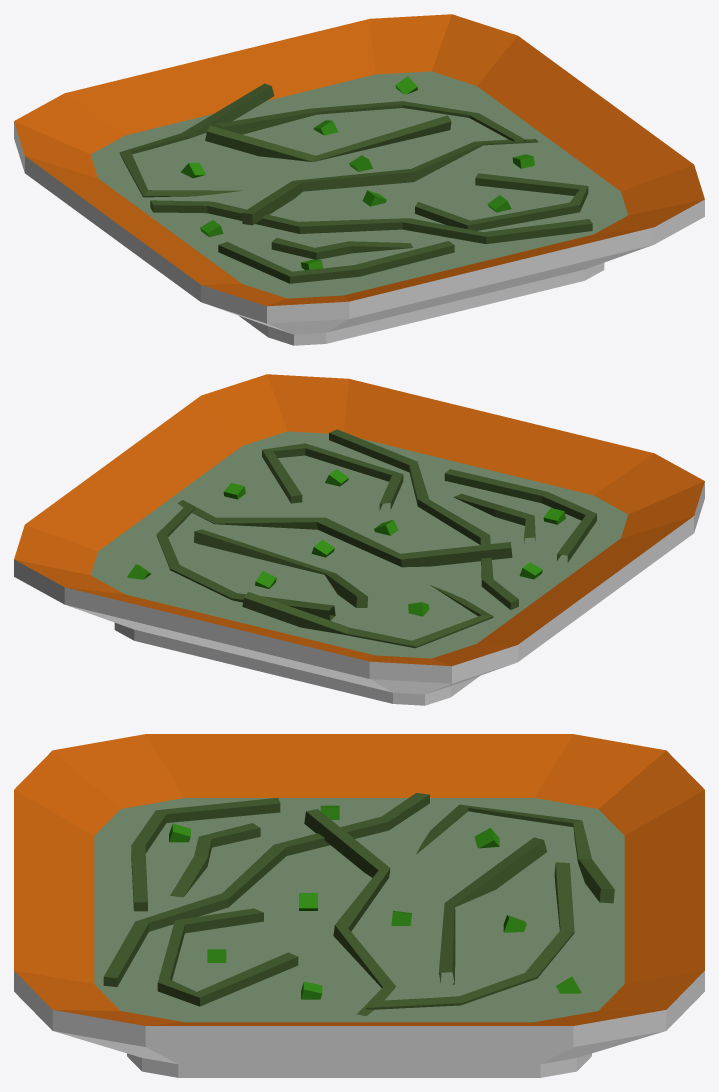
Rendered from R_Soup_2.fbx.
3 views of the same model, one above another, from view 1: azimuth 30°, elevation 25°; view 2: azimuth 150°, elevation 25°; view 3: azimuth 270°, elevation 25° (orthographic). The views are drawn at different scales.
Parts seen in each view (by area): view 1: R_Soup_2; view 2: R_Soup_2; view 3: R_Soup_2.
Part boxes in pixels (x1=…): R_Soup_2: x1=14, y1=14, x2=704, y2=345; R_Soup_2: x1=14, y1=374, x2=704, y2=705; R_Soup_2: x1=14, y1=734, x2=704, y2=1077.
Size of the model in its own units: 174 by 174 by 27.64.
